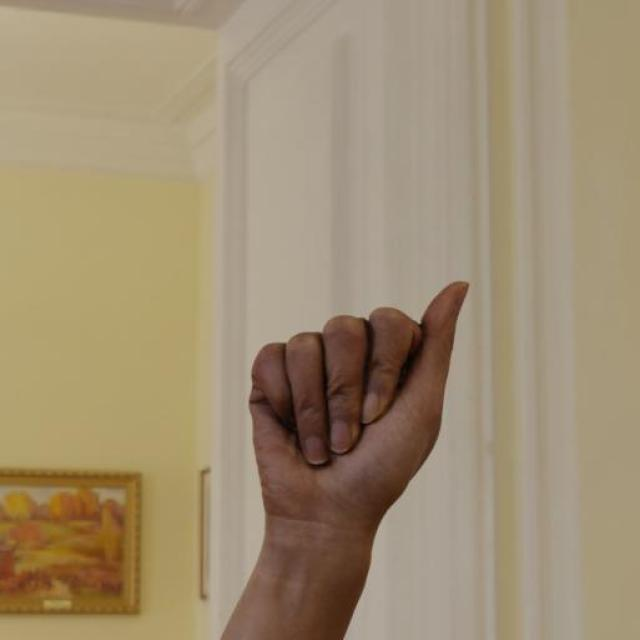A: (244, 270, 472, 524)
